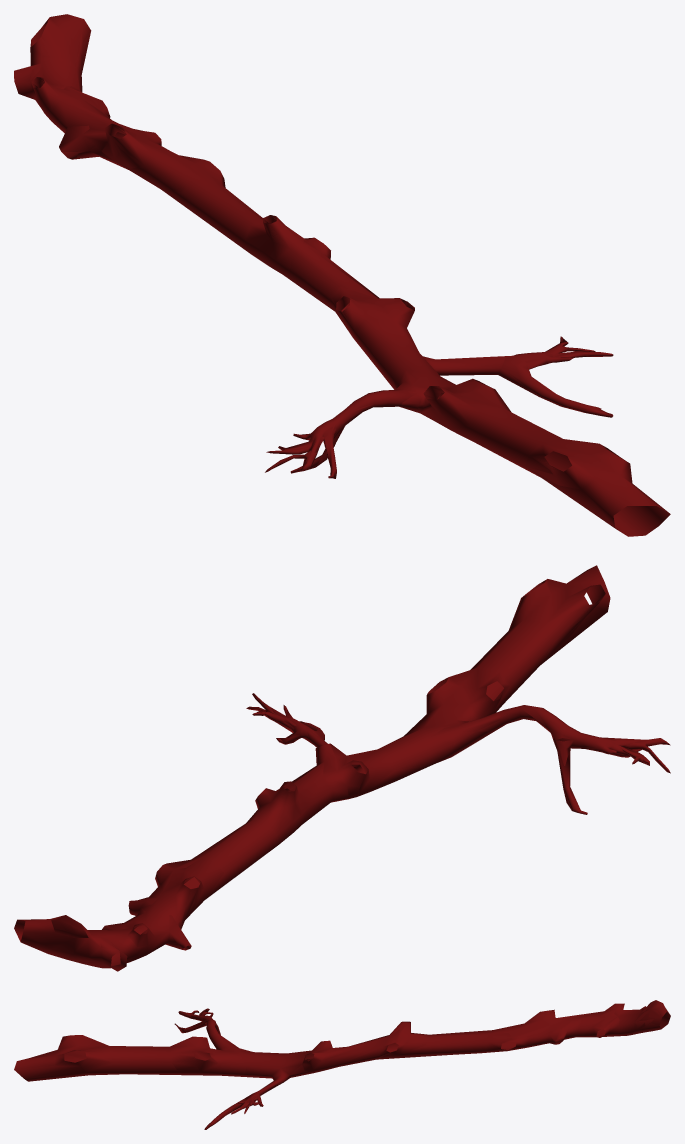
File: aorta abdominalis.fbx
3 renders of one model, top to bottom at view 1: azimuth 30°, elevation 25°; view 2: azimuth 150°, elevation 25°; view 3: azimuth 270°, elevation 25°, orthographic. The views are drawn at different scales.
Parts seen in each view (by area): view 1: aorta abdominalis, aorta abdominalis low; view 2: aorta abdominalis, aorta abdominalis low; view 3: aorta abdominalis, aorta abdominalis low.
Boxes of the visible parts, left/top/right/bottom form: aorta abdominalis: left=14, top=14, right=670, bottom=536; aorta abdominalis low: left=14, top=18, right=661, bottom=527; aorta abdominalis: left=14, top=565, right=670, bottom=971; aorta abdominalis low: left=14, top=566, right=666, bottom=969; aorta abdominalis: left=14, top=1000, right=669, bottom=1129; aorta abdominalis low: left=14, top=1000, right=670, bottom=1128.
Size of the model in its own units: 9.33 by 3.46 by 24.72.
